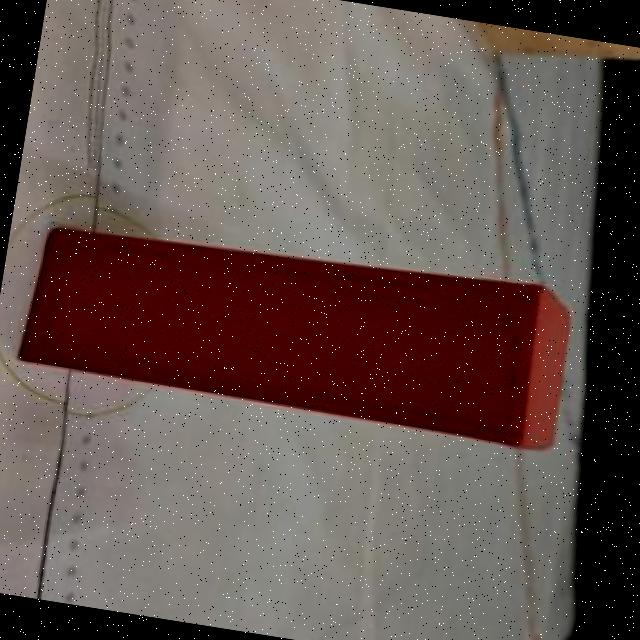redbox: (16, 207, 581, 454)
